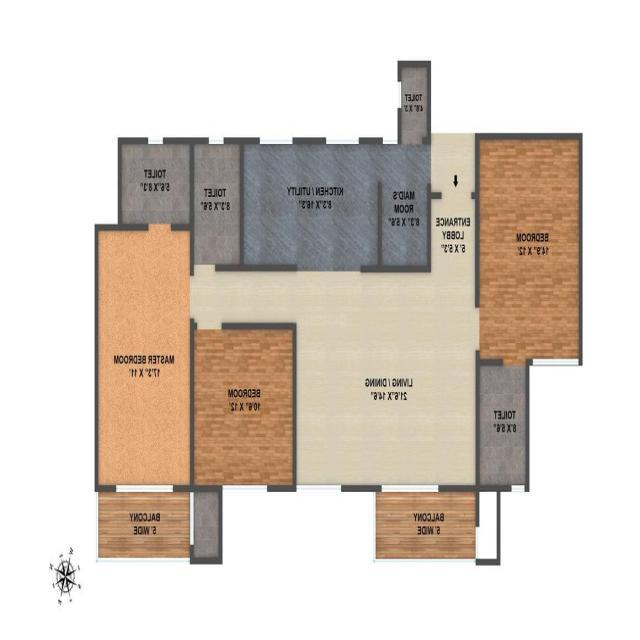Balcony-Sitout: (375, 488, 478, 564), (96, 487, 193, 560)
Bedroom: (190, 327, 297, 488), (378, 139, 429, 272)
Bedroom with Toilet: (478, 131, 584, 494), (95, 222, 193, 492)
Enterance-Foyer: (431, 154, 474, 267)
Kitchen: (242, 136, 382, 269)
Living: (295, 271, 479, 492)
Toilet: (118, 138, 193, 228), (193, 137, 242, 271), (480, 358, 529, 492), (397, 60, 431, 147)
